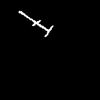double_crochet: (19, 11, 52, 36)
